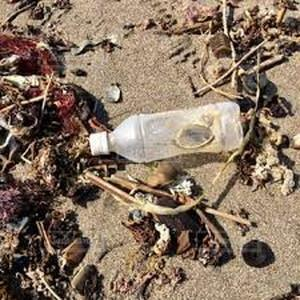Plastic: (90, 100, 242, 165)
